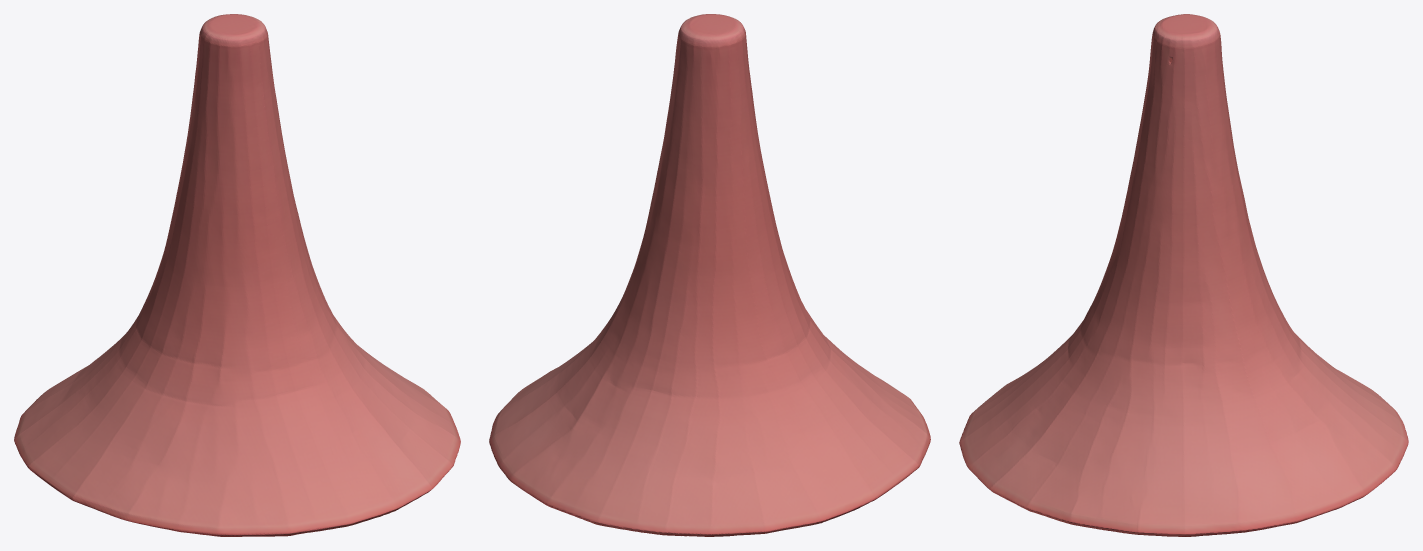
3 views of the same model, side by side, from view 1: azimuth 30°, elevation 25°; view 2: azimuth 150°, elevation 25°; view 3: azimuth 270°, elevation 25° (orthographic).
Visible parts, largest first — view 1: world; view 2: world; view 3: world.
Boxes of the visible parts, x1,y1,x2,y2 form: world: (14, 14, 460, 536); world: (489, 14, 930, 536); world: (959, 14, 1408, 536).
Size of the model in its own units: 0.9401 by 0.9957 by 0.9648.
